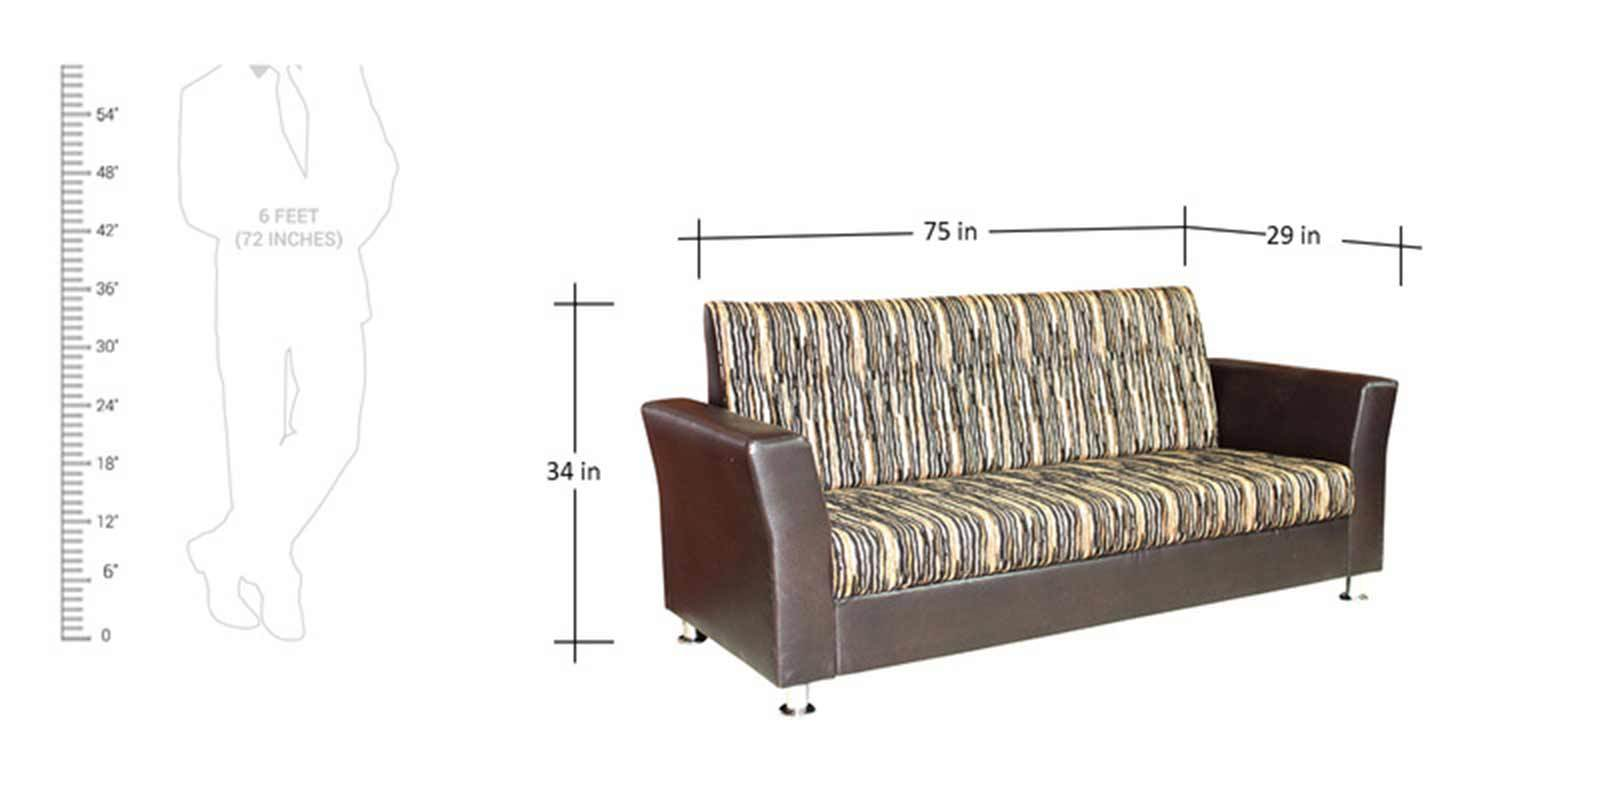Eartigo Three Seater Sofa in Brown Colour by Crystal Furnitech: (628, 281, 1429, 718)
